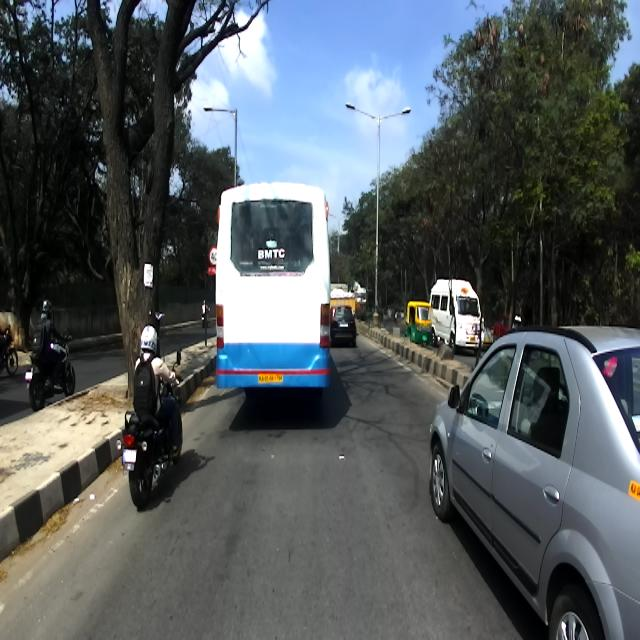bus ahead at: (217, 188, 333, 412)
car ahead at: (426, 313, 640, 640)
motorcycle ahead at: (121, 407, 189, 506)
